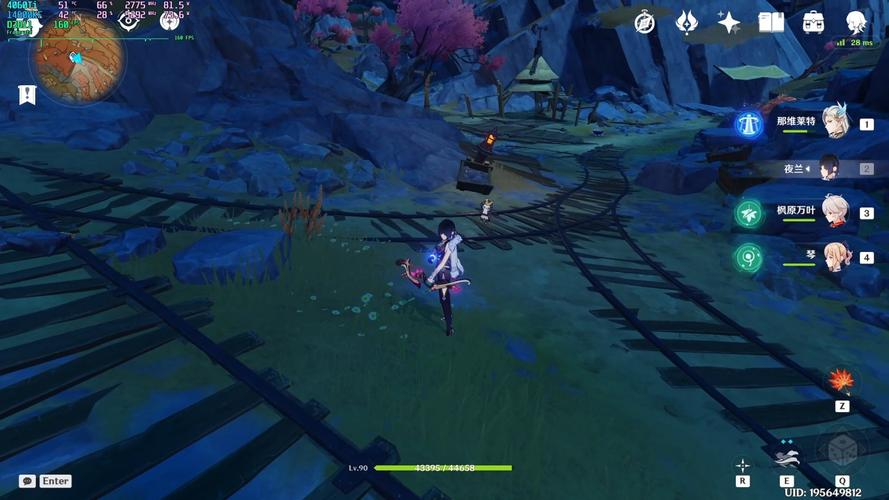夜兰: (424, 208, 466, 330), (816, 155, 844, 186)
